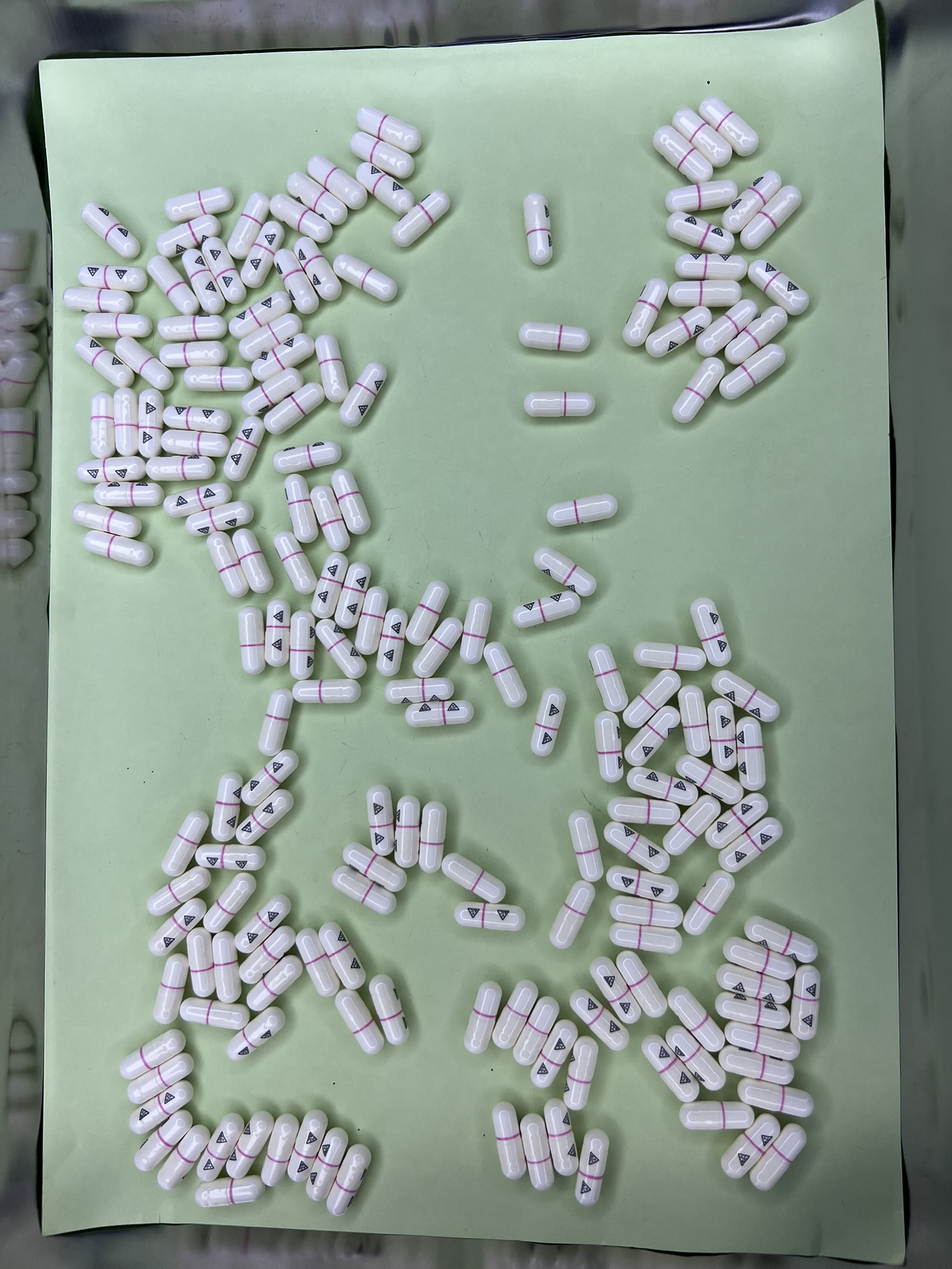Capsule: (640, 1033, 701, 1103), (720, 167, 783, 234), (739, 184, 803, 249), (670, 106, 734, 169), (153, 1123, 212, 1190), (666, 983, 724, 1051), (750, 1122, 808, 1190), (663, 795, 726, 857), (233, 892, 294, 956), (666, 1027, 725, 1093), (133, 1109, 192, 1175), (722, 1115, 780, 1182), (652, 123, 715, 184), (725, 305, 788, 366), (571, 985, 629, 1051), (743, 914, 819, 964), (119, 1027, 188, 1082), (719, 815, 783, 874), (704, 791, 769, 849), (712, 668, 779, 724), (719, 345, 786, 401), (617, 947, 669, 1019), (623, 670, 683, 732), (149, 894, 209, 956), (329, 865, 400, 917), (591, 958, 645, 1026), (700, 95, 759, 157), (126, 1052, 195, 1105), (698, 298, 761, 356), (261, 380, 326, 435), (284, 172, 349, 227), (196, 1113, 247, 1183), (228, 289, 294, 343), (245, 953, 304, 1013), (307, 155, 369, 212), (492, 979, 540, 1052), (341, 843, 407, 896), (624, 706, 680, 768), (747, 260, 809, 316), (645, 306, 710, 359), (532, 544, 598, 596), (529, 1020, 578, 1090), (391, 191, 450, 249), (605, 823, 672, 874), (203, 873, 259, 934), (722, 935, 796, 981), (129, 1081, 192, 1135), (403, 578, 452, 647), (684, 872, 736, 937), (239, 925, 297, 983), (81, 203, 140, 260), (548, 879, 594, 952), (675, 356, 727, 420), (159, 811, 210, 876), (271, 192, 336, 243), (241, 751, 299, 808), (333, 253, 399, 303), (249, 333, 315, 383), (149, 866, 210, 920), (314, 617, 367, 679), (622, 275, 667, 348), (229, 1111, 275, 1182), (240, 367, 305, 417), (227, 1007, 284, 1064), (237, 791, 295, 847), (411, 617, 464, 678), (442, 853, 504, 905), (75, 336, 133, 391), (113, 336, 172, 390), (235, 314, 304, 360), (356, 105, 422, 153), (351, 130, 414, 180), (295, 930, 342, 997), (320, 923, 366, 991), (678, 758, 743, 806), (308, 1124, 349, 1200), (329, 1143, 371, 1217), (336, 990, 383, 1056), (146, 254, 196, 316), (722, 1022, 799, 1062), (514, 998, 559, 1066), (181, 247, 226, 315), (722, 1046, 800, 1085), (739, 1078, 815, 1118), (199, 237, 243, 306), (338, 364, 386, 427), (295, 239, 341, 304), (261, 1112, 301, 1186), (287, 1111, 327, 1185), (356, 163, 414, 214), (718, 965, 790, 1006), (227, 193, 271, 260), (484, 643, 527, 711), (310, 550, 352, 619), (369, 975, 408, 1049), (206, 532, 249, 599), (274, 248, 319, 312), (273, 532, 318, 596), (588, 641, 628, 713), (331, 469, 372, 538), (244, 222, 287, 287), (162, 481, 235, 519), (718, 995, 792, 1032), (666, 212, 734, 252), (85, 529, 153, 569), (465, 981, 502, 1054), (333, 561, 372, 630), (158, 215, 222, 257), (607, 866, 679, 903), (520, 1111, 554, 1189), (543, 1100, 577, 1178), (354, 586, 391, 657), (152, 952, 189, 1023), (512, 590, 583, 627), (258, 686, 295, 757), (567, 811, 603, 883), (163, 186, 233, 223), (233, 529, 273, 593), (576, 1130, 610, 1205), (492, 1102, 525, 1179), (314, 334, 349, 405), (225, 420, 266, 480), (310, 485, 349, 548), (71, 502, 141, 537), (459, 595, 494, 665), (735, 716, 767, 792), (666, 181, 737, 215), (184, 501, 252, 536), (627, 767, 693, 803), (565, 1037, 598, 1109), (610, 898, 684, 930), (608, 922, 682, 954), (517, 320, 591, 352), (74, 456, 150, 487), (283, 475, 318, 542), (375, 606, 408, 677), (680, 684, 711, 759), (547, 495, 617, 528), (681, 1099, 753, 1131), (63, 285, 142, 314), (791, 965, 821, 1041), (211, 773, 244, 842), (196, 1176, 265, 1209), (635, 641, 706, 673), (690, 602, 729, 660), (530, 691, 566, 753), (522, 192, 552, 266), (182, 999, 249, 1032), (198, 843, 267, 875), (273, 441, 339, 474), (707, 699, 738, 769), (609, 797, 677, 828), (238, 602, 266, 676), (211, 932, 241, 1001), (455, 902, 524, 932), (288, 608, 316, 681), (672, 253, 745, 281), (366, 785, 395, 855), (668, 280, 740, 308), (187, 931, 216, 1000), (146, 455, 217, 483), (82, 311, 152, 339), (162, 342, 234, 369), (420, 801, 447, 873), (264, 597, 291, 668), (93, 480, 164, 507), (394, 796, 421, 867), (594, 712, 622, 780), (160, 429, 228, 457), (78, 264, 145, 292), (157, 315, 226, 342), (524, 391, 595, 417), (113, 388, 140, 456), (292, 679, 362, 705), (182, 365, 249, 392), (163, 405, 229, 432), (385, 680, 453, 706), (89, 392, 115, 459), (405, 700, 472, 726), (137, 390, 164, 449)
